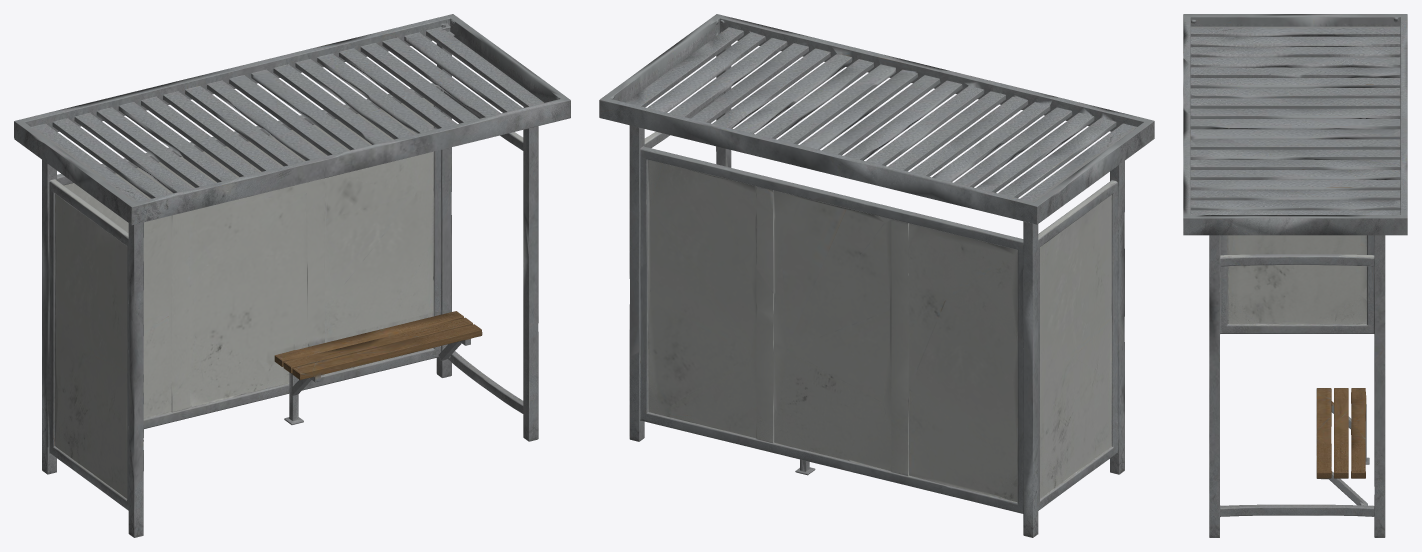
File: abribus.glb
3 renders of one model, left to right at view 1: azimuth 30°, elevation 25°; view 2: azimuth 150°, elevation 25°; view 3: azimuth 270°, elevation 25°, orthographic. The views are drawn at different scales.
Size of the model in its own units: 1.9 by 1.43 by 0.884.
Materials: 1 (1 with a texture image).
